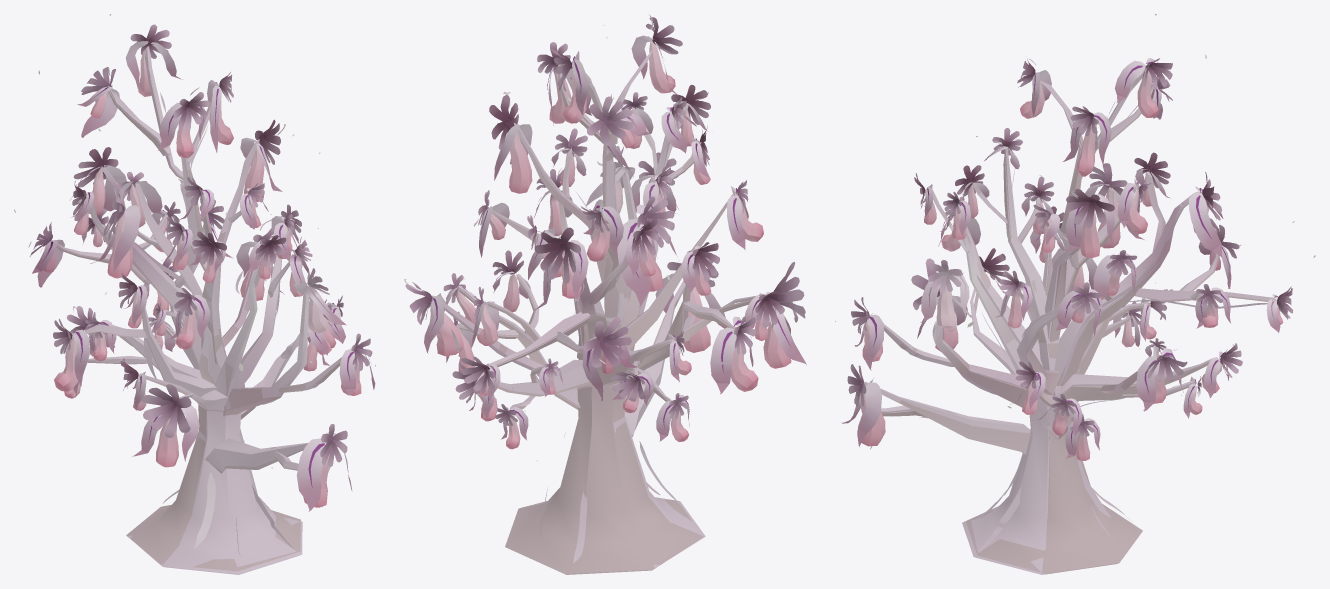
3 views of the same model, side by side, from view 1: azimuth 30°, elevation 25°; view 2: azimuth 150°, elevation 25°; view 3: azimuth 270°, elevation 25° (orthographic). The views are drawn at different scales.
Parts seen in each view (by area): view 1: LifeTree_0000; view 2: LifeTree_0000; view 3: LifeTree_0000.
Boxes of the visible parts, <box> form: LifeTree_0000: <box>14,14,375,574</box>; LifeTree_0000: <box>404,14,806,574</box>; LifeTree_0000: <box>835,14,1315,574</box>.
Size of the model in its own units: 10.03 by 16.86 by 14.76.
